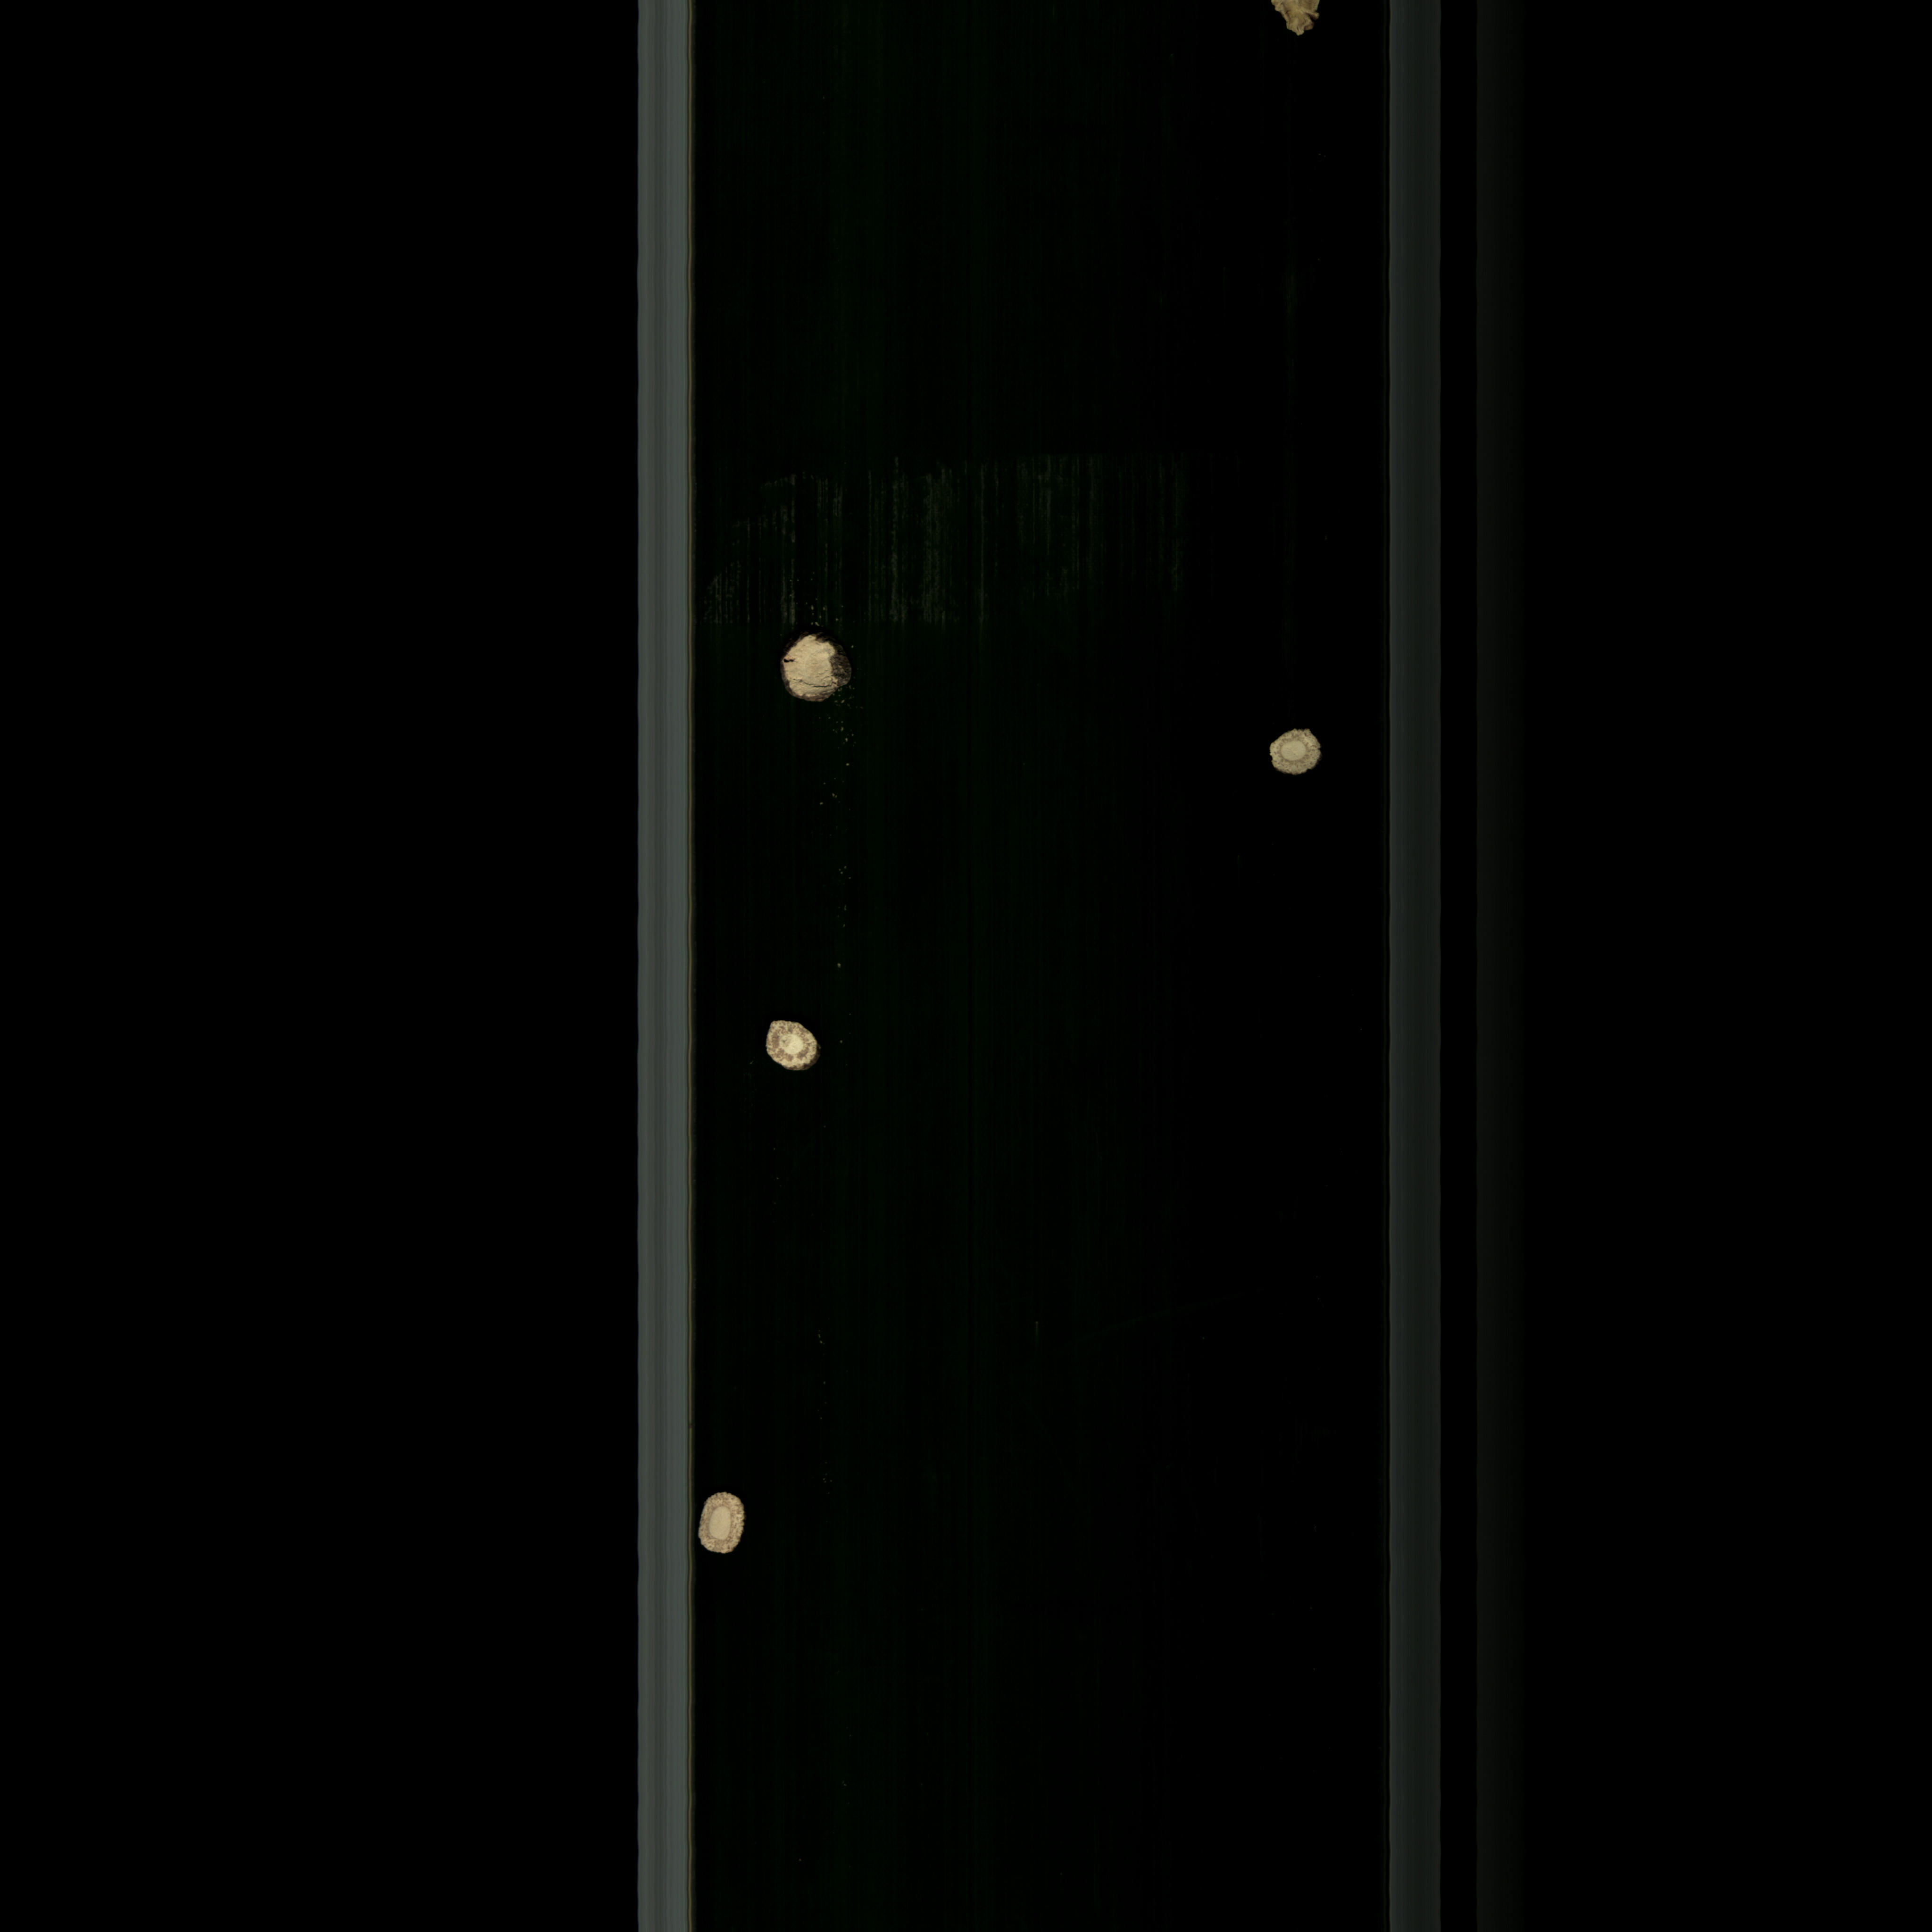bark: (773, 623, 867, 722)
moldy: (1246, 718, 1334, 786), (754, 1010, 826, 1083), (697, 1483, 745, 1564), (1265, 0, 1341, 48)
